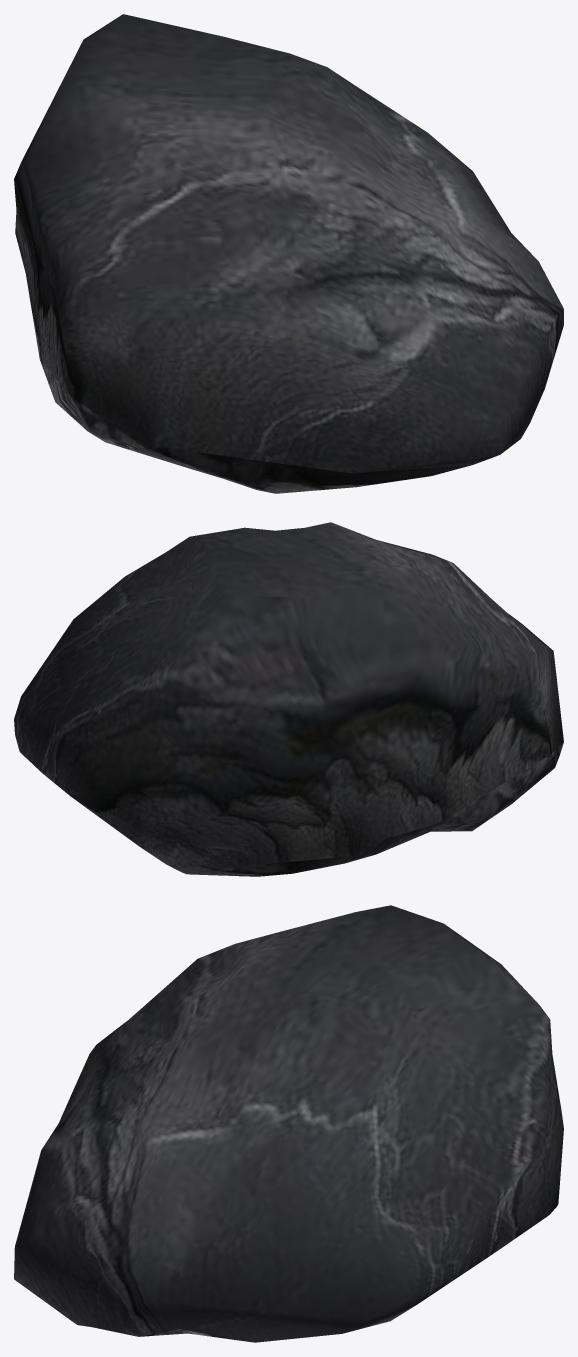
The model's file is Rock3.fbx.
The picture shows the model from 3 angles, top to bottom: view 1: azimuth 30°, elevation 25°; view 2: azimuth 150°, elevation 25°; view 3: azimuth 270°, elevation 25°; orthographic projection. The views are drawn at different scales.
Parts seen in each view (by area): view 1: rock.002; view 2: rock.002; view 3: rock.002.
Part boxes in pixels (box(x1,y1,x2,y2)): rock.002: box(14, 14, 563, 493); rock.002: box(14, 522, 563, 876); rock.002: box(14, 905, 563, 1342).
Bounding box in the file's own units: 260 × 176 × 280.
